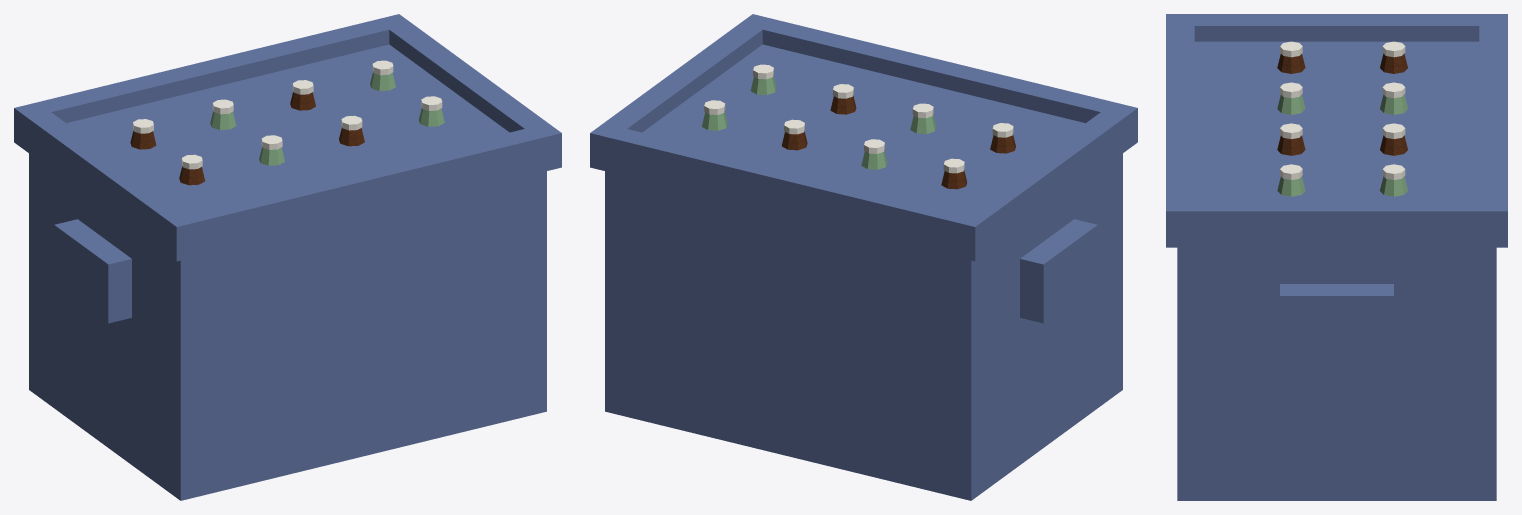
Rendered from plastic_beer_bin.glb.
3 views of the same model, side by side, from view 1: azimuth 30°, elevation 25°; view 2: azimuth 150°, elevation 25°; view 3: azimuth 270°, elevation 25° (orthographic). The views are drawn at different scales.
Parts seen in each view (by area): view 1: plastic-beer-bin-indigo, plastic-beer-bin-cream, plastic-beer-bin-darkwood, plastic-beer-bin-leaf; view 2: plastic-beer-bin-indigo, plastic-beer-bin-cream, plastic-beer-bin-darkwood, plastic-beer-bin-leaf; view 3: plastic-beer-bin-indigo, plastic-beer-bin-cream, plastic-beer-bin-darkwood, plastic-beer-bin-leaf.
Boxes of the visible parts, box(x1,y1,x2,y2) form: plastic-beer-bin-indigo: box(14, 14, 561, 500); plastic-beer-bin-cream: box(133, 60, 442, 169); plastic-beer-bin-darkwood: box(130, 92, 364, 185); plastic-beer-bin-leaf: box(210, 72, 444, 165); plastic-beer-bin-indigo: box(590, 14, 1137, 500); plastic-beer-bin-cream: box(704, 64, 1013, 173); plastic-beer-bin-darkwood: box(781, 96, 1015, 189); plastic-beer-bin-leaf: box(701, 76, 936, 169); plastic-beer-bin-indigo: box(1166, 14, 1507, 500); plastic-beer-bin-cream: box(1280, 41, 1405, 179); plastic-beer-bin-darkwood: box(1277, 53, 1407, 155); plastic-beer-bin-leaf: box(1277, 94, 1407, 196).
Bounding box in the file's own units: 0.88 × 0.582 × 0.6.
Materials: 5 (1 with a texture image).
